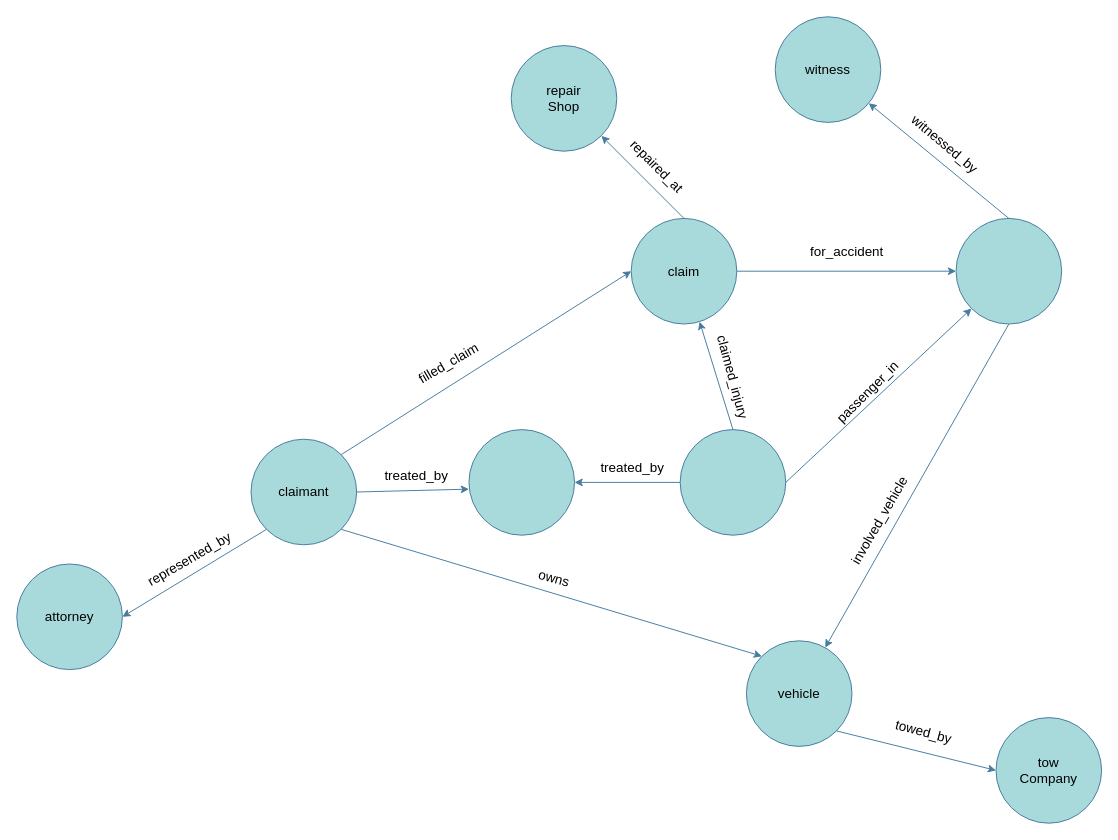
The diagram is 1118 pixels wide and 840 high, and some of its shapes have lost their labels. Here are the shapes that lost their labels. From the top down, the centre of each, then its label:
At point (1008, 270): "accident".
At point (521, 482): "medical Provider".
At point (732, 482): "passenger".
